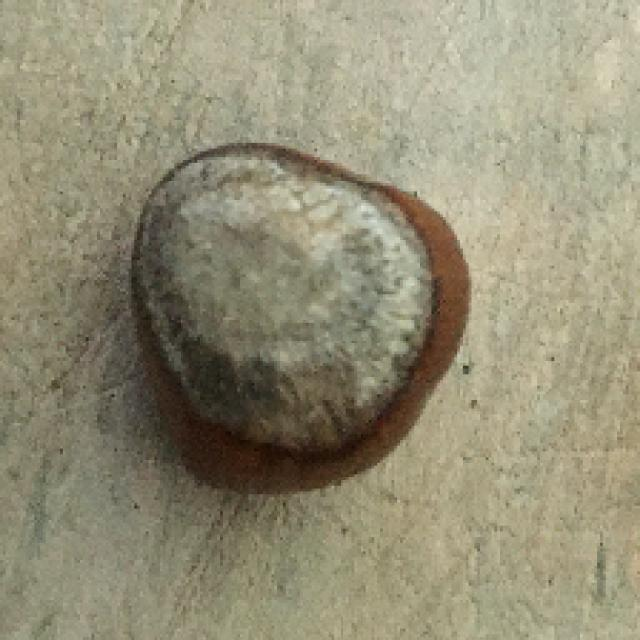QualityHazelnut: (124, 139, 471, 497)
